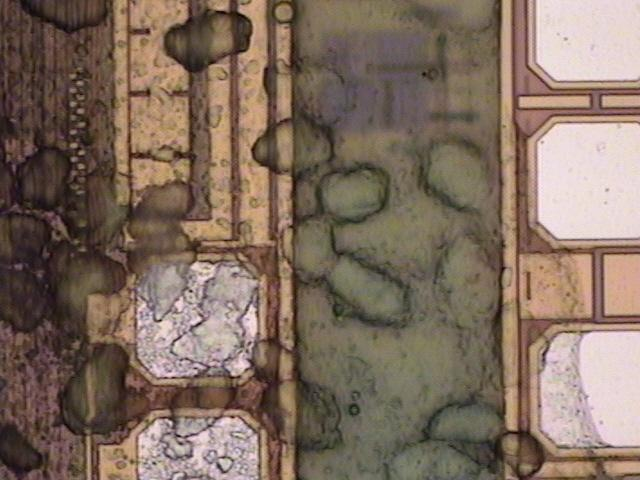PO CONTAMINATION: (1, 1, 626, 480)
